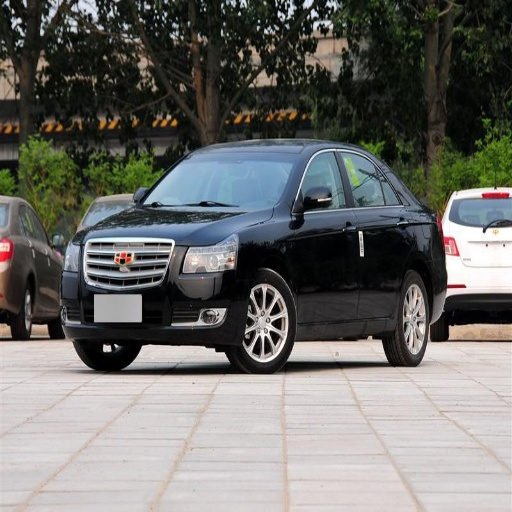back_left_door: (340, 149, 410, 319)
front_bumper: (60, 228, 244, 337)
front_glass: (137, 152, 301, 208)
front_left_door: (293, 148, 362, 322)
